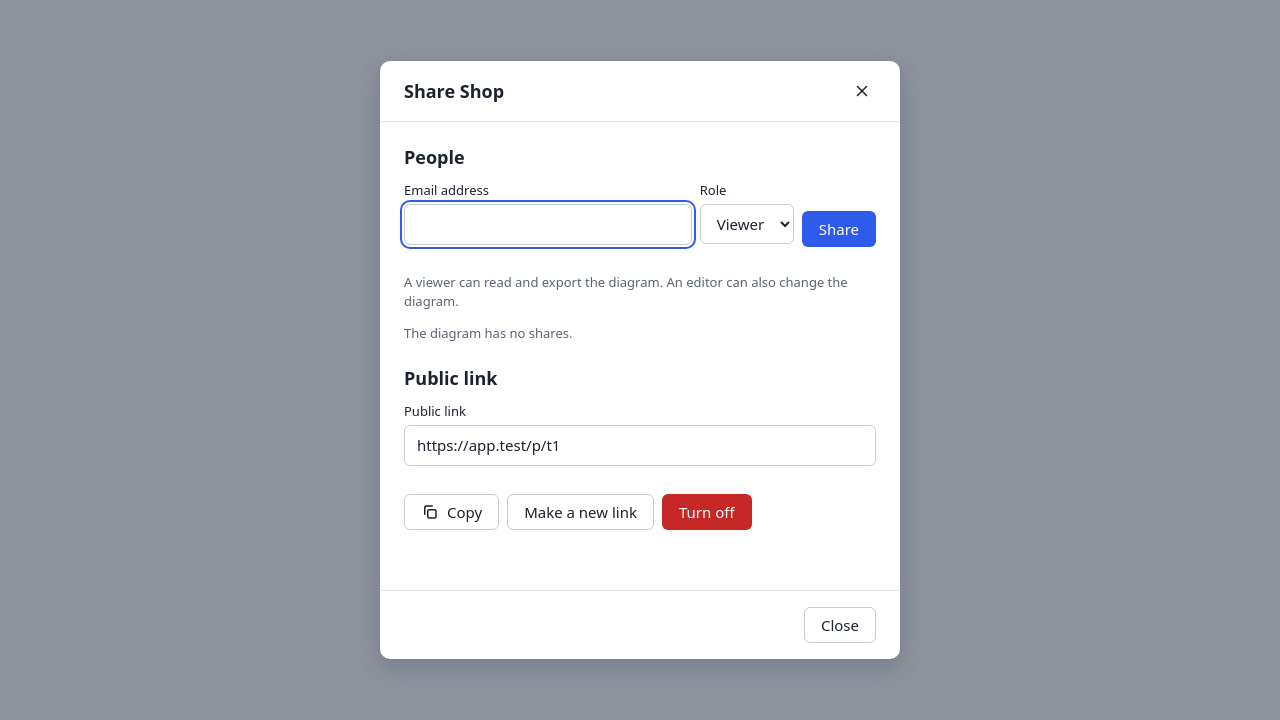
Test case: ShareDialog › copy button › copies the URL and says so
Expected: the field showing "https://app.test/p/t1" is shown, left=404, top=425, right=876, bottom=466
Click the button "Copy".
click(452, 512)  # box left=404, top=494, right=499, bottom=530
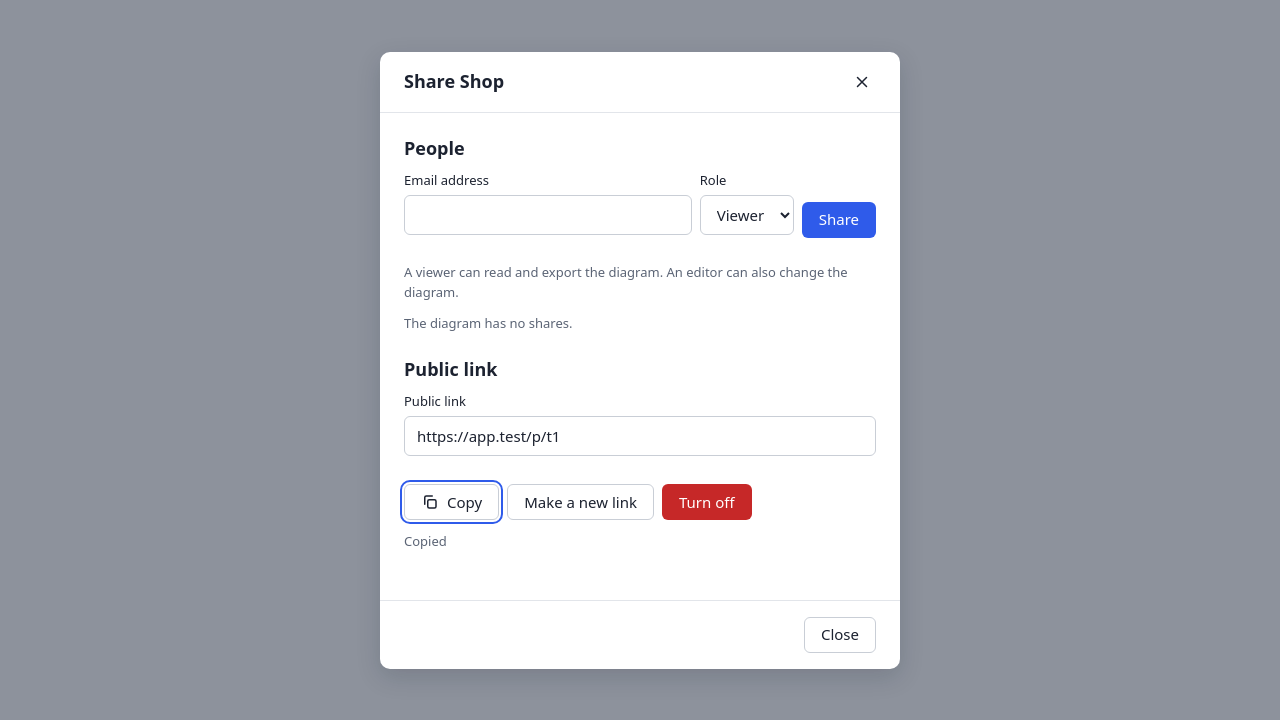
Expected: the text "Copied" is shown, left=404, top=532, right=447, bottom=550
